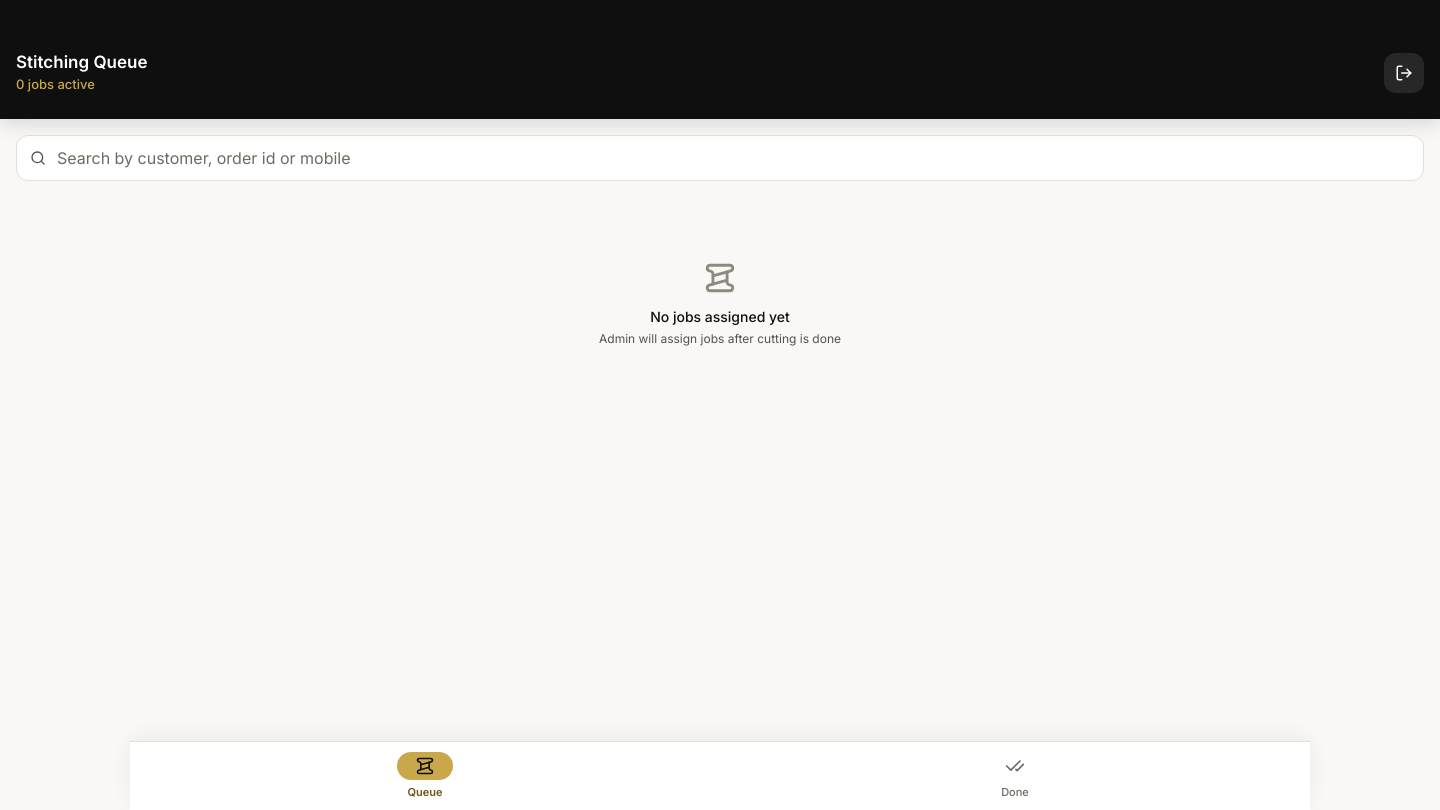
it: QueueBody › applies the search to the Done tab too
The image size is (1440, 810).
Step 1. Click the button "Done" → (1015, 776), box top-left (720, 742), bottom-right (1310, 809)
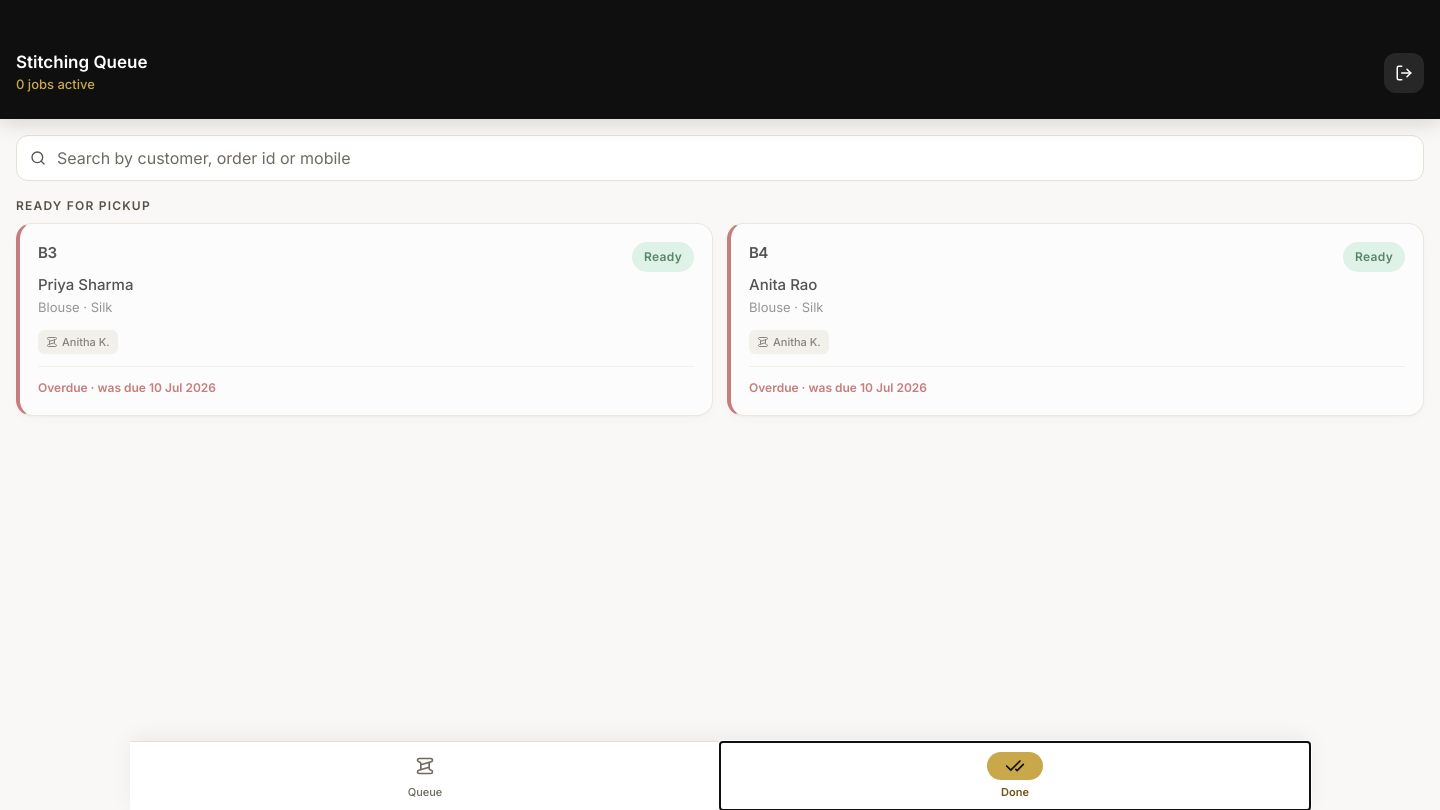
Step 2. Type "anita" into the field named "Search orders" → (720, 158), box top-left (16, 135), bottom-right (1424, 181)
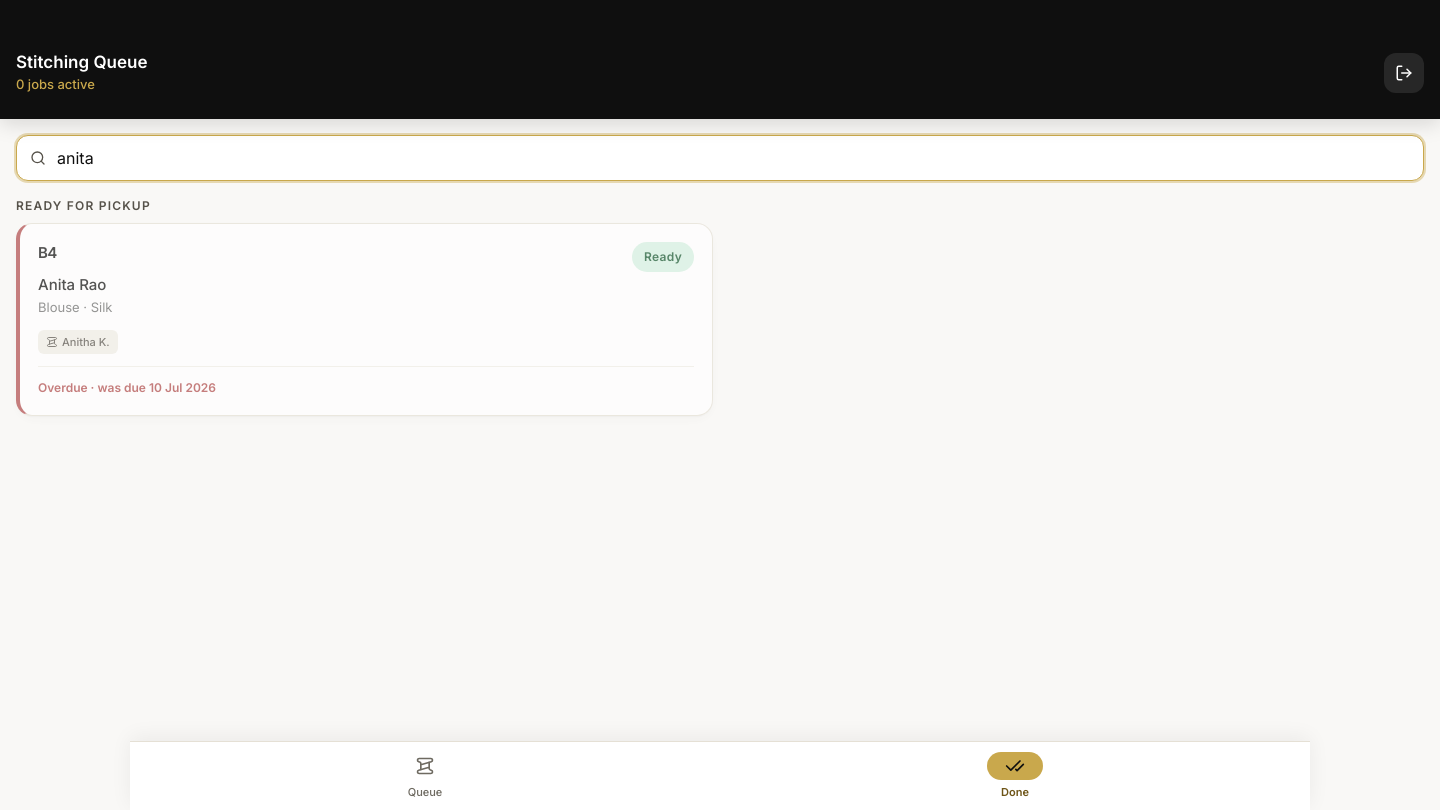
Result: the text "B4" is shown at top-left (38, 242), bottom-right (57, 264)
Result: the button "B3" is gone
Step 3. Replace the text in the field named "Search orders" with "nobody" → (720, 158), box top-left (16, 135), bottom-right (1424, 181)
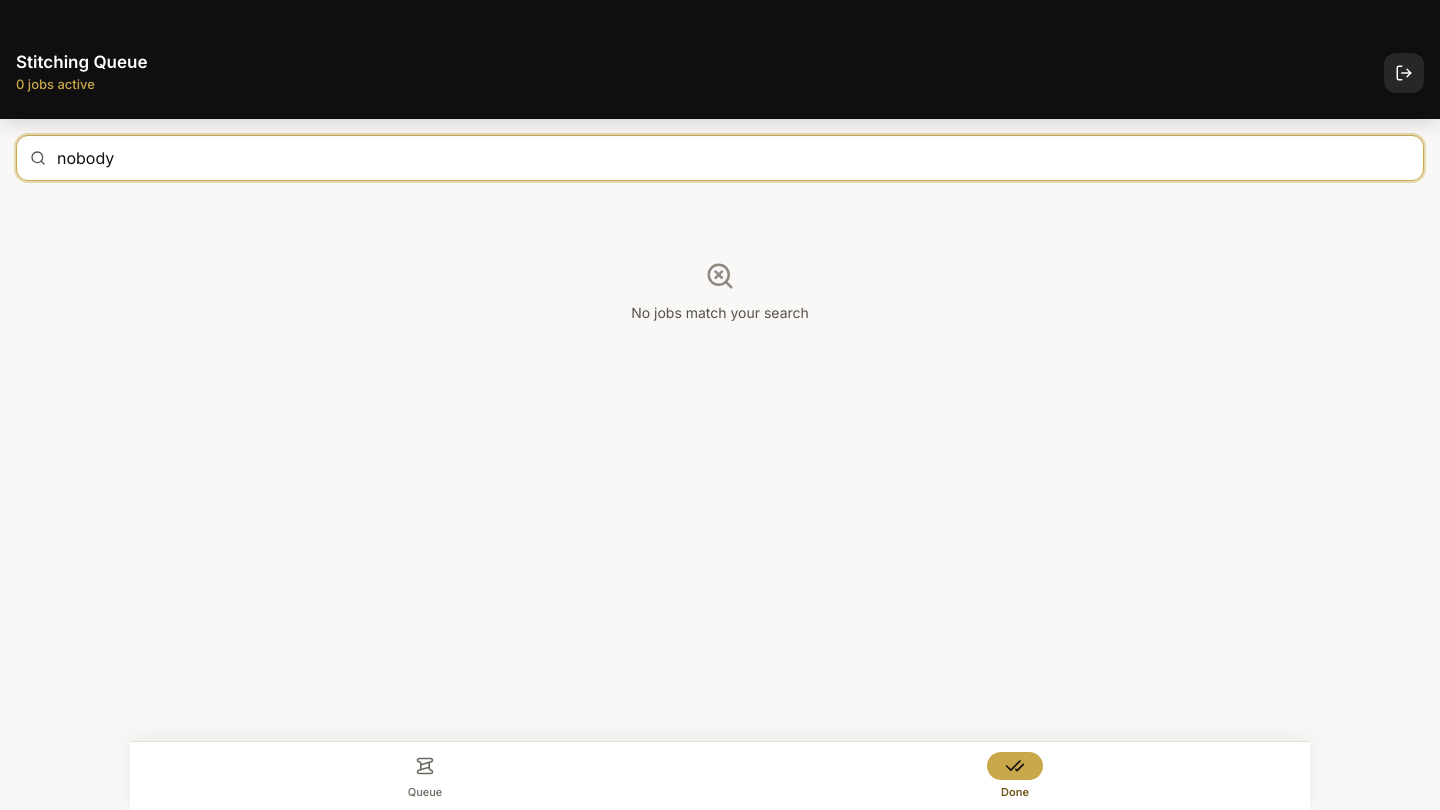
Result: the text "No jobs match your search" is shown at top-left (631, 304), bottom-right (809, 321)
